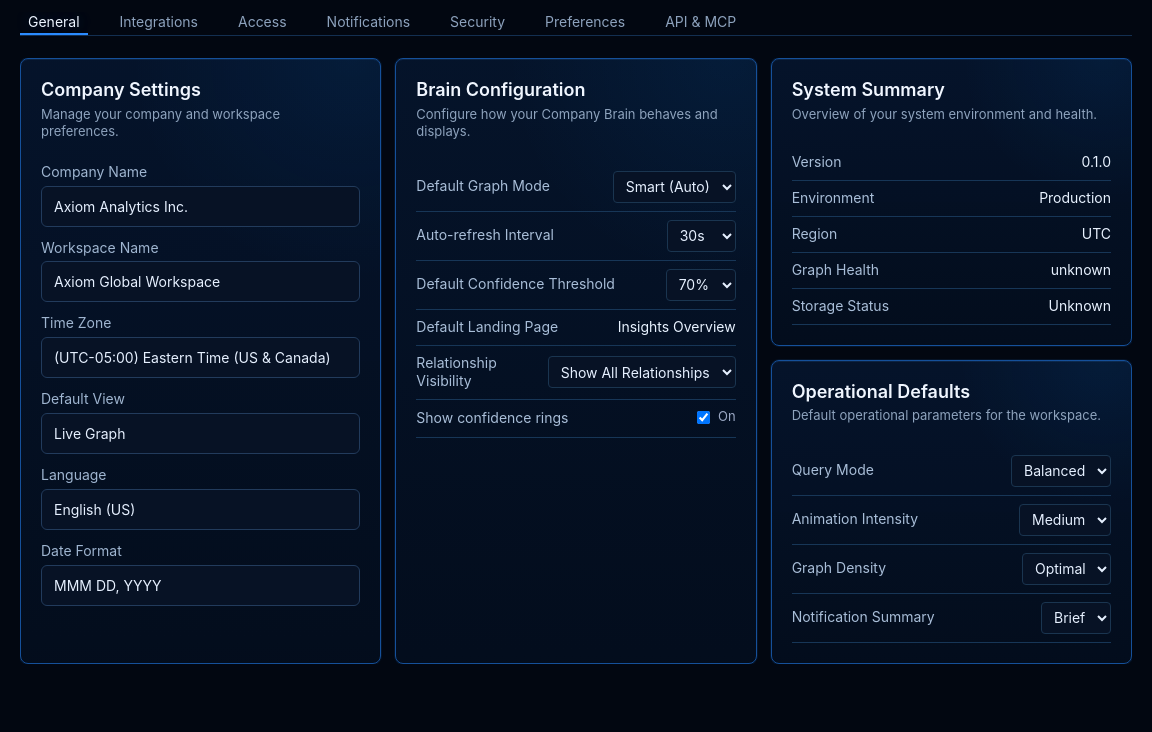
Scenario: SettingsPage › renders Access tab content
Click the button "Access" at [262, 24], box [230,12,295,35]
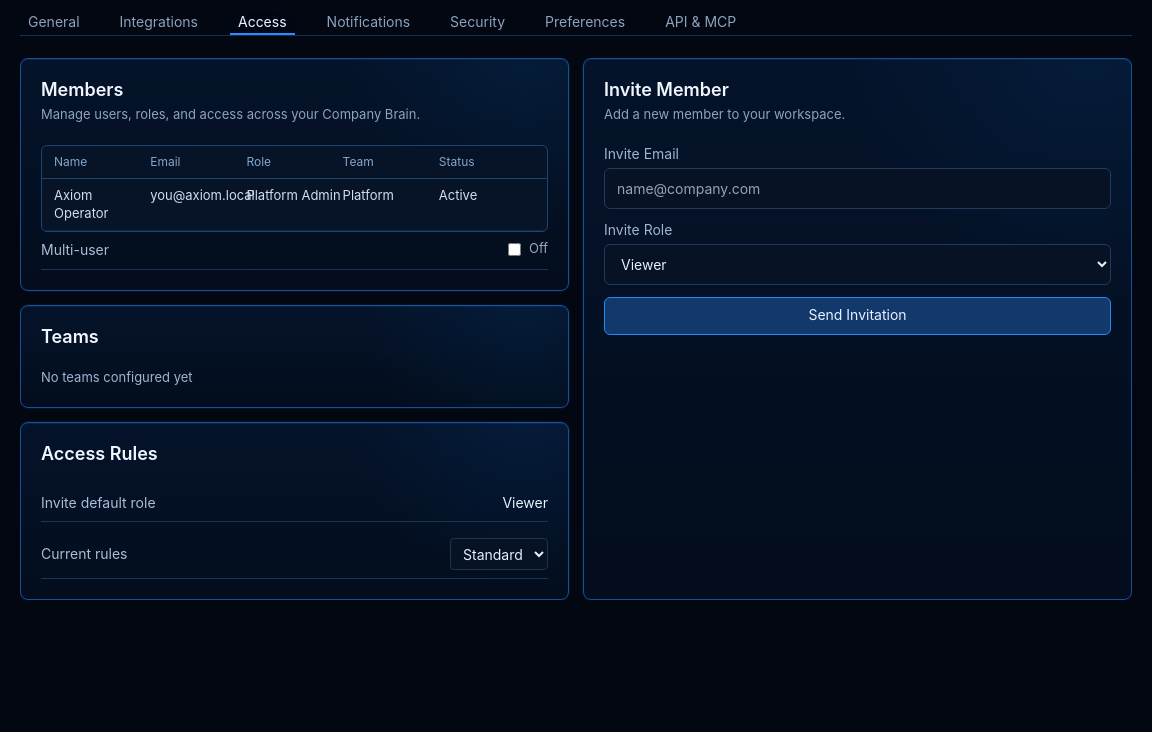
Result: the heading "Members" is shown at [41,79,123,100]
